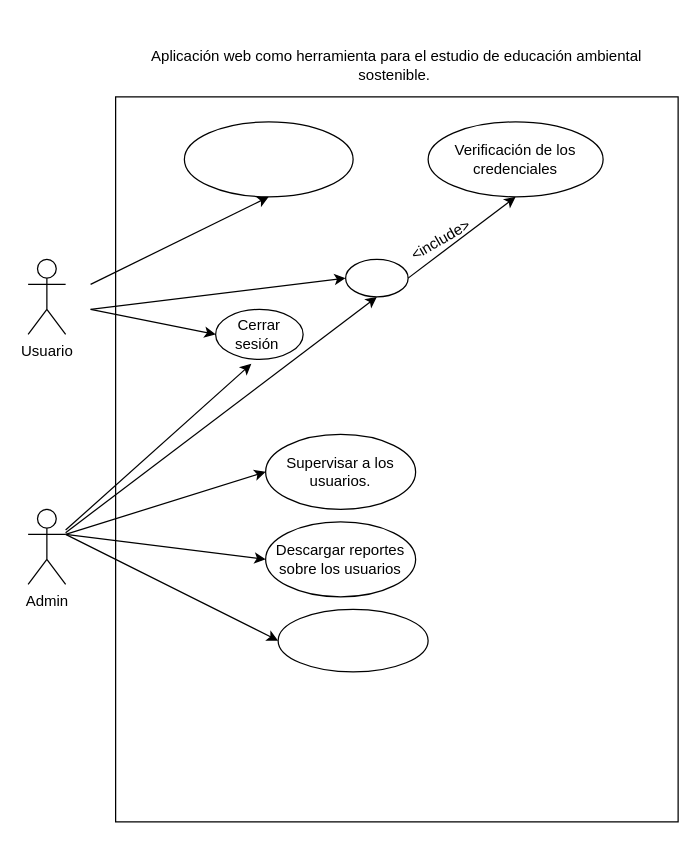
Some shapes in this 700 by 844 pixel diagram are drawn without their labels. The shapes that lost their labels are listed below. From the top down, each one's box as (x1, y1, x2, y2) in pixels, then its label:
(183, 121, 353, 197): Acceso al aprendizaje educativo.
(344, 258, 408, 297): Login
(277, 608, 428, 672): Administrar a los usuarios
